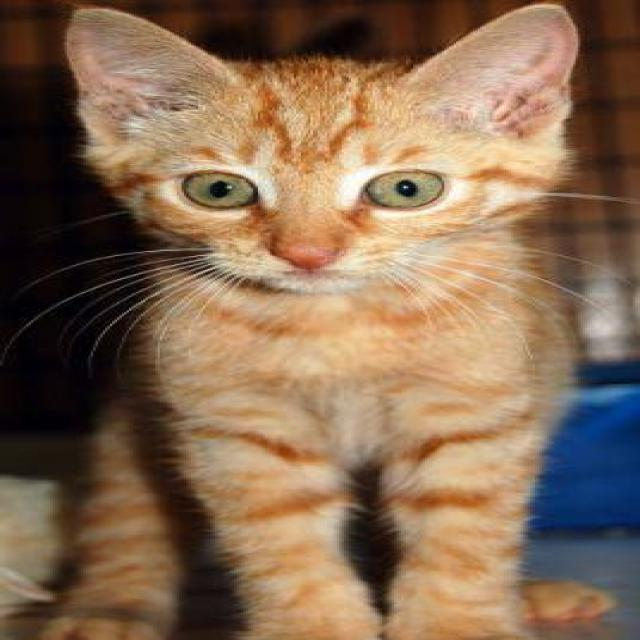cat: (0, 0, 633, 639)
